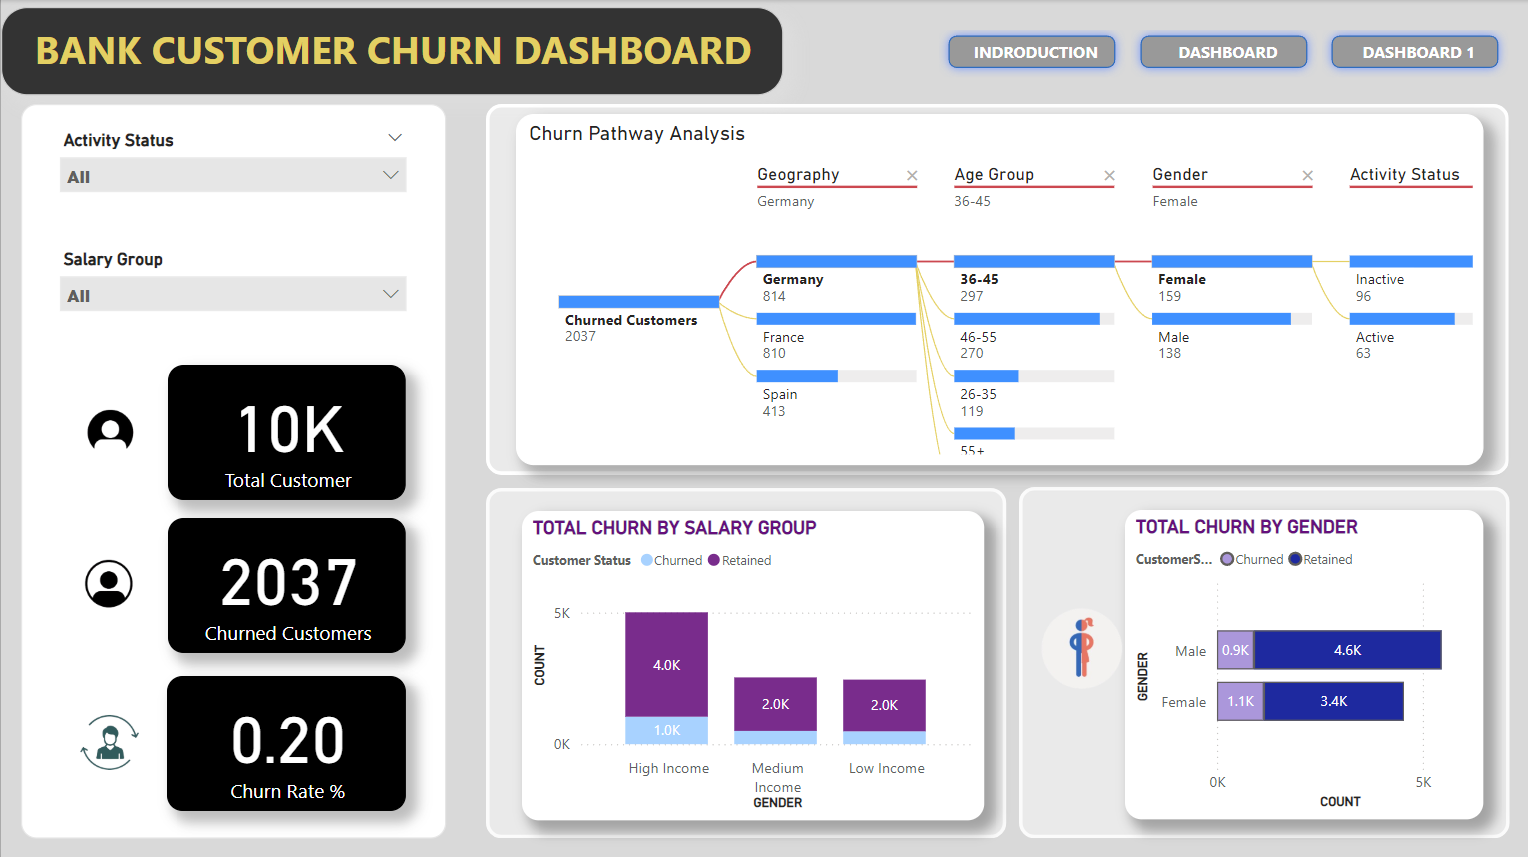

Layout of this report page (visuals, bound fields, positions):
{"tool":"powerbi","page":{"name":"DASHBOARD","canvas":[1280,720],"ordinal":1},"visuals":[{"type":"textbox","box":[0,6,654.7,74.2],"z":0},{"type":"group","id":"g1","title":"Group 3","box":[784.9,21.6,155.7,43.1],"z":0,"group":"g7"},{"type":"group","id":"g2","title":"Group 3","box":[946,21.6,155.7,43.1],"z":1000,"group":"g7"},{"type":"shape","box":[16.4,87.1,356.2,615],"z":1000},{"type":"shape","box":[406.3,87.1,856.5,310.5],"z":1000,"group":"g6"},{"type":"shape","box":[852,408,410.7,294.1],"z":1000,"group":"g5"},{"type":"shape","box":[406,408.5,435.6,293.3],"z":1000,"group":"g8"},{"type":"group","id":"g3","title":"Group 3","box":[1105.4,21.6,155.7,43.1],"z":2000,"group":"g7"},{"type":"slicer","fields":{"Values":["Churn_Modelling.Activity Status"]},"box":[39.7,103.5,309.6,75.9],"z":2000},{"type":"barChart","title":"TOTAL CHURN BY GENDER","fields":{"Y":["CountNonNull(Churn_Modelling.Exited)"],"Category":["Churn_Modelling.Gender"],"Series":["Churn_Modelling.CustomerStatus"]},"box":[941.3,427.1,299.8,258.8],"z":2000,"group":"g5"},{"type":"columnChart","title":"TOTAL CHURN BY SALARY GROUP","fields":{"Category":["Churn_Modelling.Salary Group"],"Y":["CountNonNull(Churn_Modelling.Exited)"],"Series":["Churn_Modelling.CustomerStatus"]},"box":[436.4,427.6,387.4,258.9],"z":2000,"group":"g8"},{"type":"card","fields":{"Values":["Churn_Modelling.Total Customer"]},"box":[139.7,305.3,199.2,113],"z":3000},{"type":"card","fields":{"Values":["Churn_Modelling.Churn Rate %"]},"box":[138.9,565.8,200.1,113],"z":4000},{"type":"group","id":"g4","title":"Group 6","box":[406,408.5,435.6,293.3],"z":5000},{"type":"group","id":"g5","title":"Group 4","box":[800.4,408,462.3,294.1],"z":6000},{"type":"image","box":[54.3,593.4,73.3,56.1],"z":7000},{"type":"image","box":[0,287.2,182.9,149.2],"z":8000},{"type":"slicer","fields":{"Values":["Churn_Modelling.Salary Group"]},"box":[39.7,203.6,309.6,75.9],"z":9000},{"type":"card","fields":{"Values":["Churn_Modelling.Churned Customers"]},"box":[139.7,433.9,199.2,113],"z":10000},{"type":"image","box":[50,420.9,188.9,134.6],"z":11000},{"type":"group","id":"g6","title":"Group 2","box":[406.3,87.1,856.5,310.5],"z":12000},{"type":"shape","title":"INDRODUCTION","box":[784.9,21.6,155.7,43.1],"z":13000,"group":"g1"},{"type":"shape","title":"INDRODUCTION","box":[946,21.6,155.7,43.1],"z":13000,"group":"g2"},{"type":"shape","title":"INDRODUCTION","box":[1105.4,21.6,155.7,43.1],"z":13000,"group":"g3"},{"type":"image","box":[800.4,470.6,208.7,203.5],"z":13000,"group":"g5"},{"type":"textbox","box":[804.1,29.4,123.6,26.7],"z":14000,"group":"g1"},{"type":"textbox","box":[965.2,29.4,123.6,26.7],"z":14000,"group":"g2"},{"type":"textbox","box":[1124.6,29.4,123.6,26.7],"z":14000,"group":"g3"},{"type":"group","id":"g7","title":"Group 5","box":[784.9,21.6,476.1,43.1],"z":14004},{"type":"decompositionTreeVisual","title":" Churn Pathway Analysis","fields":{"Analyze":["Churn_Modelling.Churned Customers"],"ExplainBy":["Churn_Modelling.Geography","Churn_Modelling.Age Group","Churn_Modelling.Gender","Churn_Modelling.Activity Status"]},"box":[431,95.1,809.6,293.6],"z":20001,"group":"g6"},{"type":"group","id":"g8","title":"Group 1","box":[406,408.5,435.6,293.3],"z":20001,"group":"g4"}]}

Visuals, with their boxes in screenshot pixels (x1, y1, x2, y2), scaled from the page's 1280x720 canvas onto the 1528x857 screenshot:
textbox: region(0, 7, 782, 95)
"Group 3" group: region(937, 26, 1123, 77)
"Group 3" group: region(1129, 26, 1315, 77)
shape: region(20, 104, 445, 836)
shape: region(485, 104, 1507, 473)
shape: region(1017, 486, 1507, 836)
shape: region(485, 486, 1005, 835)
"Group 3" group: region(1320, 26, 1505, 77)
slicer - Churn_Modelling.Activity Status: region(47, 123, 417, 214)
"TOTAL CHURN BY GENDER" barChart: region(1124, 508, 1482, 816)
"TOTAL CHURN BY SALARY GROUP" columnChart: region(521, 509, 983, 817)
card - Churn_Modelling.Total Customer: region(167, 363, 405, 498)
card - Churn_Modelling.Churn Rate %: region(166, 673, 405, 808)
"Group 6" group: region(485, 486, 1005, 835)
"Group 4" group: region(955, 486, 1507, 836)
image: region(65, 706, 152, 773)
image: region(0, 342, 218, 519)
slicer - Churn_Modelling.Salary Group: region(47, 242, 417, 333)
card - Churn_Modelling.Churned Customers: region(167, 516, 405, 651)
image: region(60, 501, 285, 661)
"Group 2" group: region(485, 104, 1507, 473)
"INDRODUCTION" shape: region(937, 26, 1123, 77)
"INDRODUCTION" shape: region(1129, 26, 1315, 77)
"INDRODUCTION" shape: region(1320, 26, 1505, 77)
image: region(955, 560, 1205, 802)
textbox: region(960, 35, 1107, 67)
textbox: region(1152, 35, 1300, 67)
textbox: region(1342, 35, 1490, 67)
"Group 5" group: region(937, 26, 1505, 77)
" Churn Pathway Analysis" decompositionTreeVisual: region(515, 113, 1481, 463)
"Group 1" group: region(485, 486, 1005, 835)
